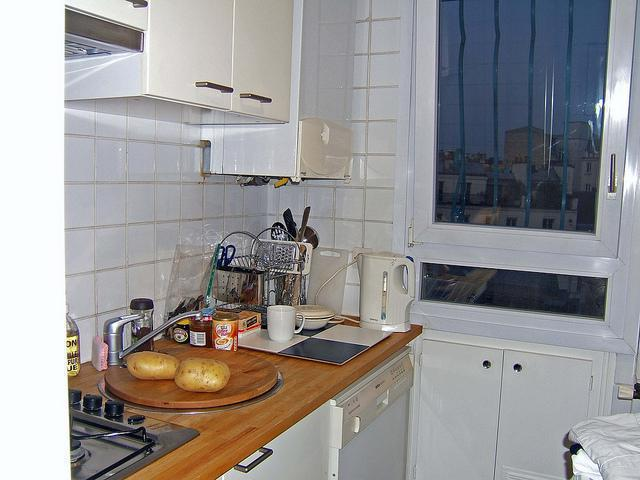Lavaplatos: (93, 287, 300, 431)
